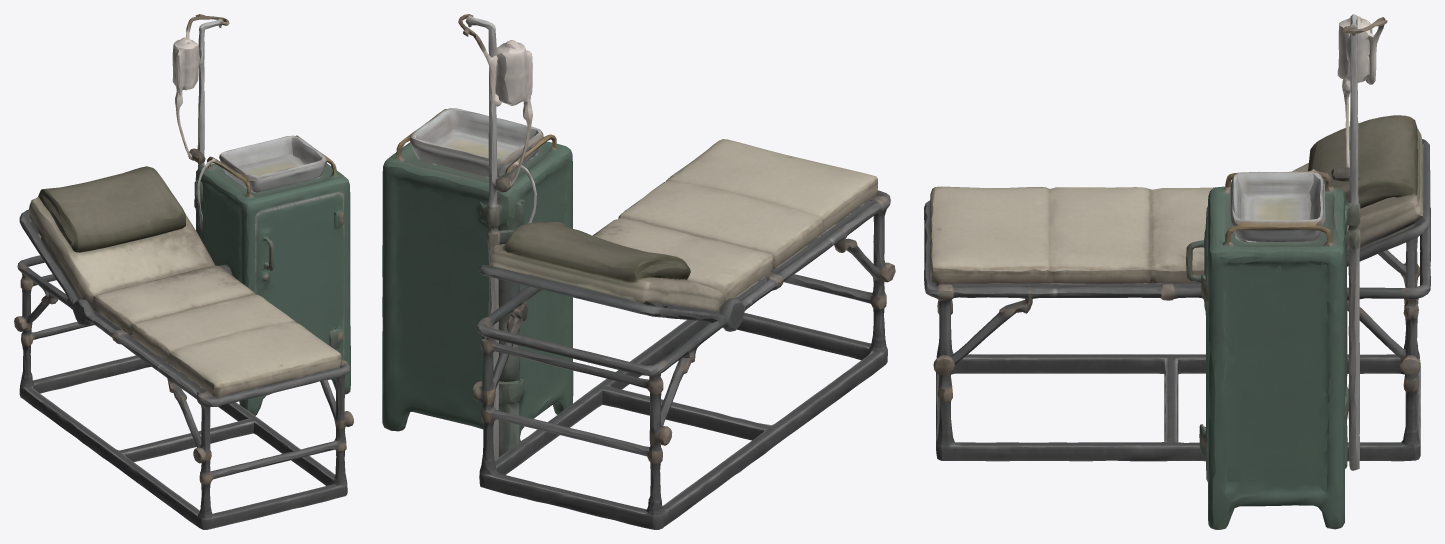
The model's file is clinic.glb.
The picture shows the model from 3 angles, left to right: view 1: azimuth 30°, elevation 25°; view 2: azimuth 150°, elevation 25°; view 3: azimuth 270°, elevation 25°; orthographic projection. The views are drawn at different scales.
Parts seen in each view (by area): view 1: clinic; view 2: clinic; view 3: clinic.
Part boxes in pixels (x1=…): clinic: x1=14, y1=14, x2=353, y2=529; clinic: x1=382, y1=14, x2=895, y2=529; clinic: x1=924, y1=14, x2=1430, y2=529.
Bounding box in the file's own units: 1.26 × 1.65 × 1.65.
1 material, 1 textured.
